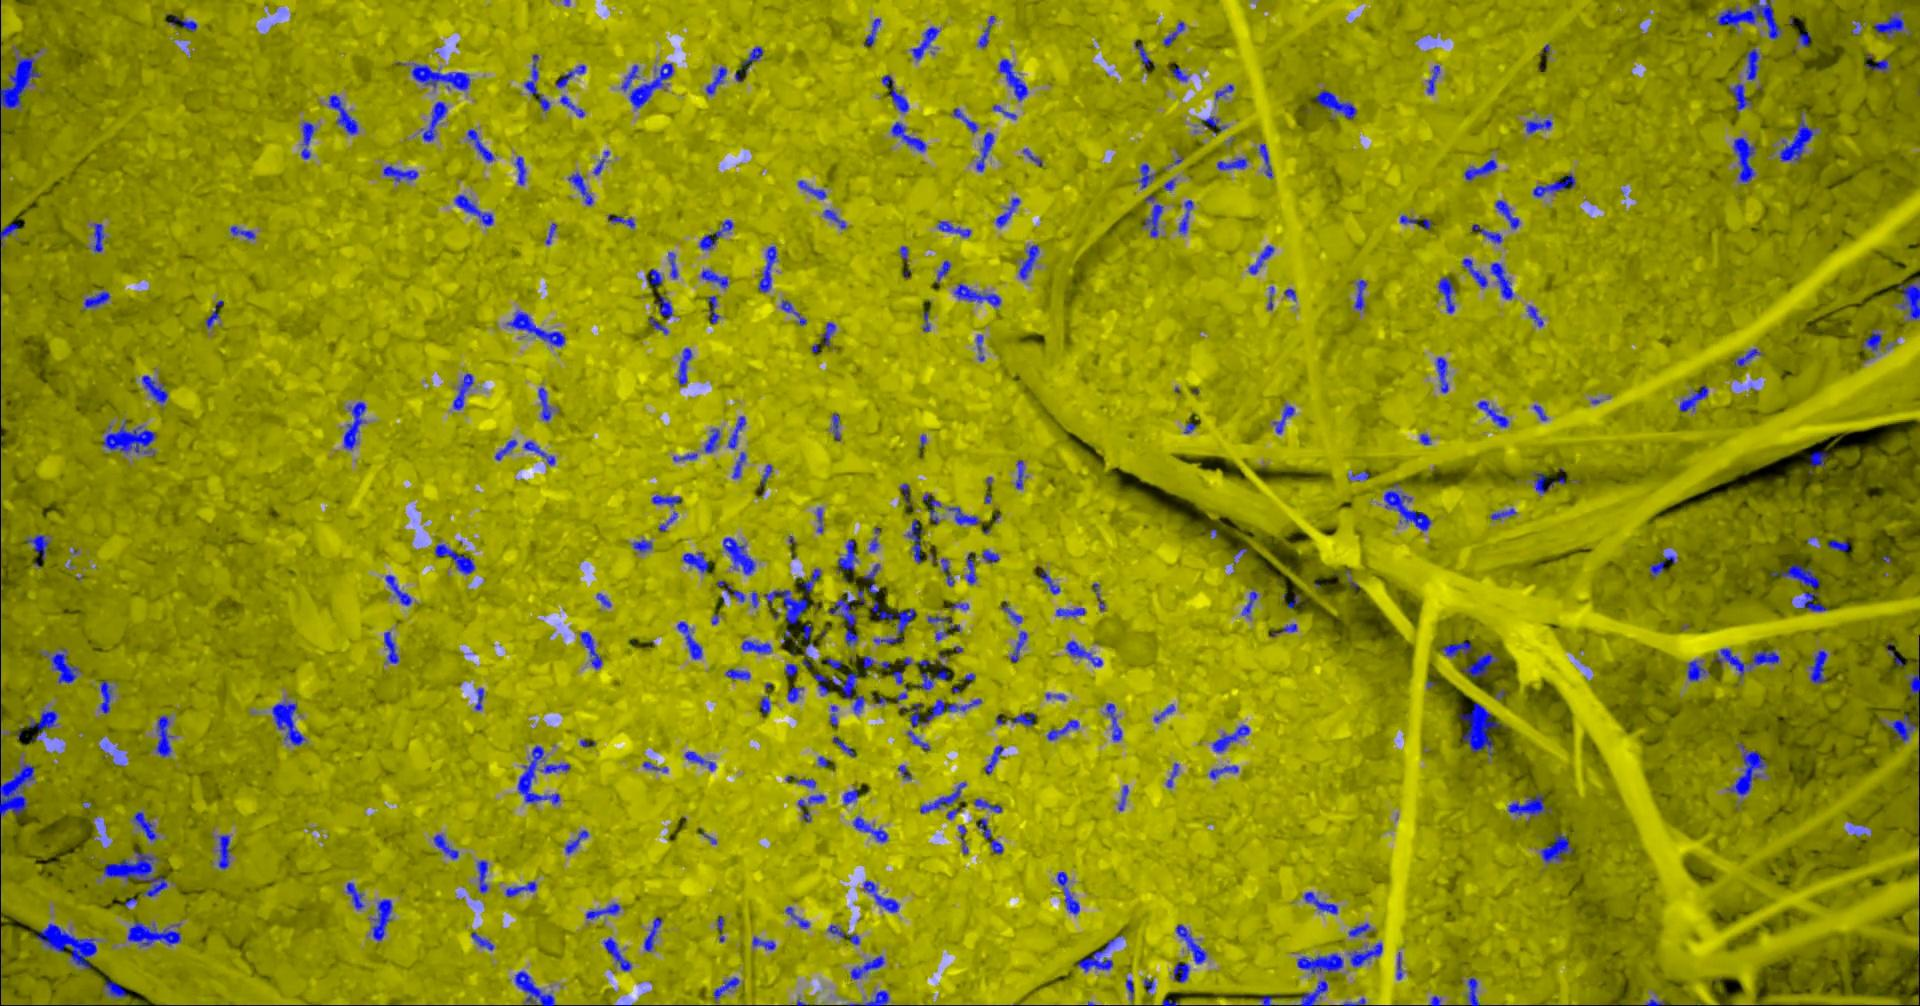ant: (763, 568, 820, 624), (1770, 563, 1827, 611), (1716, 0, 1780, 38), (517, 746, 559, 804), (620, 64, 672, 108), (1383, 481, 1430, 530), (1727, 742, 1768, 795), (0, 55, 39, 109), (1712, 648, 1779, 680), (1458, 702, 1498, 754), (907, 699, 982, 727), (813, 672, 863, 713), (505, 311, 564, 345), (871, 600, 916, 644), (102, 420, 155, 455), (1778, 112, 1815, 161), (0, 763, 34, 815), (1076, 935, 1120, 970), (270, 701, 305, 746), (410, 64, 470, 89), (829, 592, 857, 645), (919, 782, 966, 813), (127, 921, 180, 946), (514, 970, 554, 1005), (434, 542, 474, 574), (1175, 923, 1206, 963), (998, 58, 1027, 100), (44, 648, 79, 683), (723, 537, 756, 574), (455, 194, 493, 225), (328, 94, 357, 133), (1316, 90, 1356, 118), (1507, 793, 1550, 818), (863, 880, 898, 912), (890, 121, 926, 151), (1888, 705, 1919, 741), (952, 283, 999, 306), (1211, 724, 1250, 752), (1531, 173, 1575, 197), (975, 817, 1003, 854), (881, 74, 908, 112), (1732, 137, 1755, 182), (343, 401, 364, 448), (698, 218, 731, 249), (1057, 871, 1079, 915), (676, 621, 701, 659), (916, 659, 949, 688), (1540, 833, 1573, 862), (910, 25, 938, 60), (422, 102, 446, 141), (852, 815, 888, 842), (1065, 640, 1102, 666), (1462, 652, 1498, 677), (28, 709, 57, 741), (603, 937, 631, 970), (466, 128, 493, 163), (371, 898, 392, 940), (1297, 953, 1343, 972), (1142, 194, 1162, 238), (1477, 400, 1509, 427), (1490, 262, 1512, 298), (758, 245, 776, 292), (1347, 942, 1382, 967), (850, 955, 884, 979), (385, 574, 411, 605), (1898, 279, 1919, 319), (568, 171, 592, 205), (579, 631, 601, 668), (1303, 890, 1337, 913), (523, 439, 554, 465), (141, 375, 168, 403), (1679, 385, 1707, 412), (155, 715, 173, 757), (1462, 258, 1487, 287), (131, 810, 156, 840), (975, 131, 993, 171), (452, 373, 472, 409), (1531, 471, 1564, 493), (780, 298, 806, 325), (1299, 979, 1327, 1005), (1248, 245, 1272, 274), (1873, 11, 1903, 34), (555, 64, 585, 86), (996, 197, 1018, 227), (837, 539, 857, 573), (1464, 159, 1496, 180), (1046, 719, 1078, 741), (1018, 244, 1037, 279), (1495, 199, 1519, 227), (1272, 403, 1294, 433), (907, 520, 922, 563), (1437, 276, 1455, 312), (643, 917, 662, 951), (977, 15, 996, 48), (1105, 702, 1121, 741), (25, 533, 50, 559), (739, 46, 762, 72), (936, 220, 970, 238), (712, 976, 739, 998), (1470, 224, 1502, 243), (705, 66, 726, 94), (848, 989, 888, 1005), (728, 415, 745, 448), (952, 108, 977, 132), (564, 829, 588, 854), (559, 94, 584, 117), (300, 121, 315, 159), (684, 751, 715, 770), (433, 835, 458, 857), (783, 906, 809, 929), (524, 53, 538, 94), (1728, 83, 1749, 111), (716, 580, 744, 601), (983, 746, 1003, 774), (1648, 555, 1674, 577), (1810, 650, 1826, 683), (585, 903, 618, 920), (922, 493, 940, 523), (947, 507, 978, 525), (682, 551, 709, 572), (797, 180, 825, 199), (677, 347, 691, 385), (1733, 348, 1761, 367), (935, 558, 954, 586), (1040, 567, 1059, 594), (862, 563, 879, 594), (927, 615, 959, 631), (1010, 630, 1026, 662), (1257, 144, 1272, 178), (1162, 22, 1183, 46), (1743, 47, 1759, 80), (383, 165, 417, 180), (1177, 199, 1192, 232), (537, 387, 552, 420), (700, 269, 728, 287), (345, 882, 363, 909), (1686, 659, 1709, 681), (83, 291, 109, 309), (832, 735, 855, 756), (797, 794, 825, 810), (0, 222, 19, 246), (1884, 641, 1903, 666), (905, 730, 930, 749), (1133, 39, 1150, 65), (1138, 163, 1156, 188), (1435, 357, 1448, 392), (383, 631, 397, 663), (494, 439, 516, 460), (470, 931, 493, 950), (103, 979, 126, 998), (592, 150, 610, 174), (1808, 450, 1826, 474), (865, 18, 880, 46), (1352, 279, 1366, 310), (1440, 641, 1470, 655), (1208, 765, 1238, 779), (505, 882, 536, 895), (1241, 591, 1257, 616), (99, 680, 112, 713), (1862, 329, 1881, 351), (1001, 605, 1022, 624), (1153, 702, 1175, 721), (217, 835, 229, 869), (1269, 622, 1297, 636), (973, 798, 1001, 812), (1465, 977, 1479, 1005), (740, 640, 771, 653), (823, 210, 844, 227), (1909, 658, 1919, 695), (169, 17, 196, 30), (1524, 119, 1550, 133), (607, 213, 634, 227), (731, 451, 745, 478), (1426, 64, 1439, 93), (992, 104, 1016, 119), (1201, 116, 1225, 131), (657, 295, 672, 319), (703, 428, 719, 452), (965, 553, 977, 584), (476, 860, 488, 892), (648, 316, 668, 334), (658, 511, 676, 531), (1526, 305, 1543, 326), (1865, 57, 1888, 72), (1217, 158, 1247, 169), (229, 225, 255, 238), (1011, 713, 1035, 727), (91, 222, 103, 251), (651, 494, 681, 506), (935, 260, 950, 282), (1490, 507, 1515, 520), (1166, 762, 1178, 788), (707, 295, 719, 323), (822, 323, 836, 345), (1022, 149, 1041, 165), (645, 268, 662, 287), (538, 762, 569, 772), (1173, 962, 1189, 982), (750, 936, 775, 949), (957, 824, 968, 854), (1170, 66, 1189, 81), (1214, 84, 1233, 99), (514, 156, 524, 184), (667, 251, 677, 279), (830, 412, 841, 439), (631, 539, 651, 553), (1349, 922, 1369, 936), (725, 668, 749, 680), (643, 761, 667, 772), (786, 686, 803, 702), (842, 788, 858, 804), (761, 464, 772, 486), (899, 483, 910, 506), (803, 624, 814, 647), (1015, 459, 1023, 488), (1055, 607, 1084, 616), (869, 526, 879, 551), (1829, 539, 1849, 551), (1117, 785, 1128, 810), (204, 309, 218, 326), (827, 923, 843, 937), (982, 549, 999, 561), (862, 655, 874, 674), (1796, 30, 1810, 46), (825, 655, 842, 668), (795, 777, 815, 788), (474, 687, 483, 710), (977, 334, 984, 359), (672, 453, 697, 461), (1349, 470, 1368, 480), (759, 696, 770, 715), (898, 763, 910, 779), (716, 916, 724, 941), (783, 663, 797, 676), (1396, 951, 1402, 979), (538, 94, 549, 111), (1125, 978, 1133, 1000), (829, 705, 837, 725), (891, 669, 902, 683), (1644, 998, 1666, 1005), (817, 507, 822, 532)
